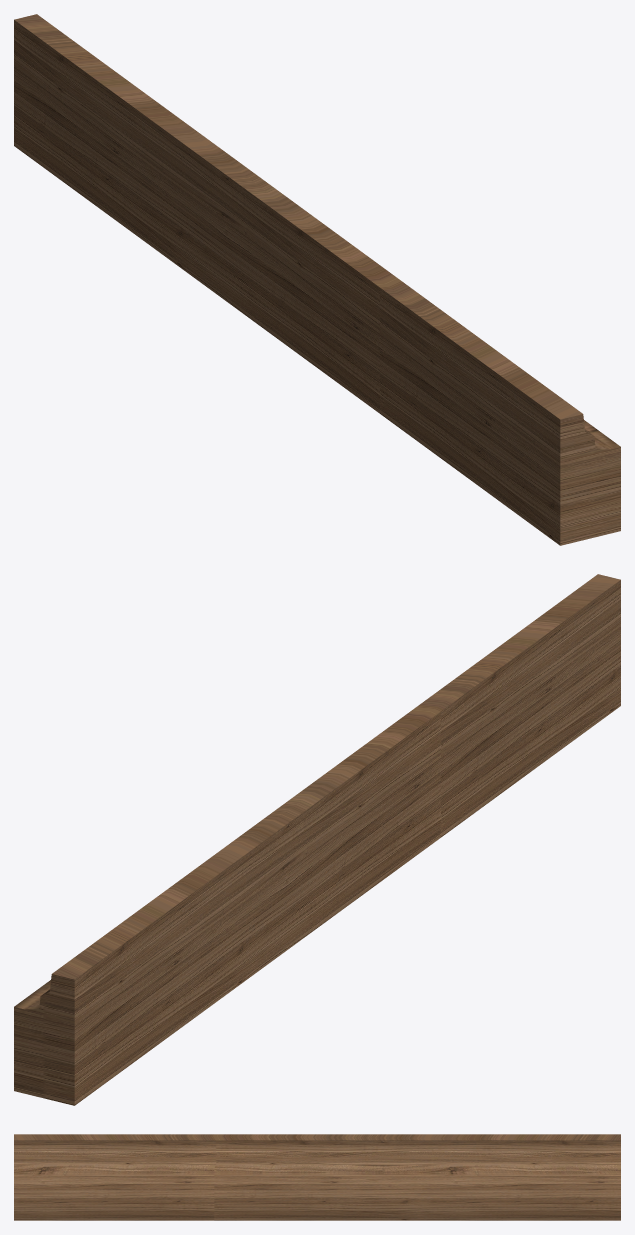
File: souphalftrim003.obj
3 renders of one model, top to bottom at view 1: azimuth 30°, elevation 25°; view 2: azimuth 150°, elevation 25°; view 3: azimuth 270°, elevation 25°, orthographic. The views are drawn at different scales.
Parts seen in each view (by area): view 1: souphalftrim003_high_1; view 2: souphalftrim003_high_1; view 3: souphalftrim003_high_1.
Part boxes in pixels (x1,y1,x2,y2): souphalftrim003_high_1: (14, 14, 620, 545); souphalftrim003_high_1: (14, 574, 620, 1105); souphalftrim003_high_1: (14, 1134, 620, 1220).
Bounding box in the file's own units: 0.0861 × 0.1712 × 1.34.
